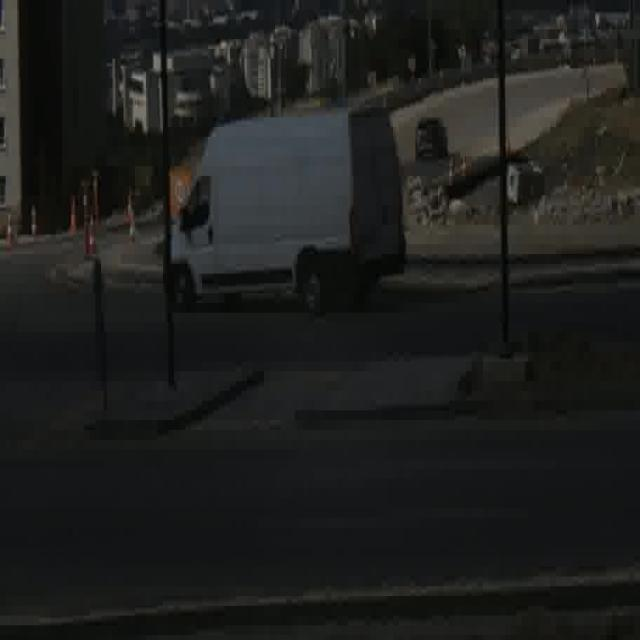Car: (173, 111, 407, 315), (415, 114, 447, 158)
